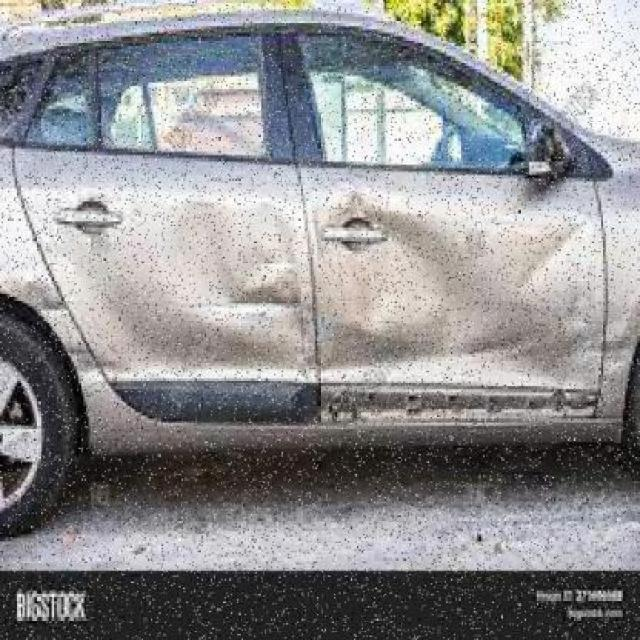doorouter-dent: (315, 156, 603, 423), (60, 156, 309, 423)
